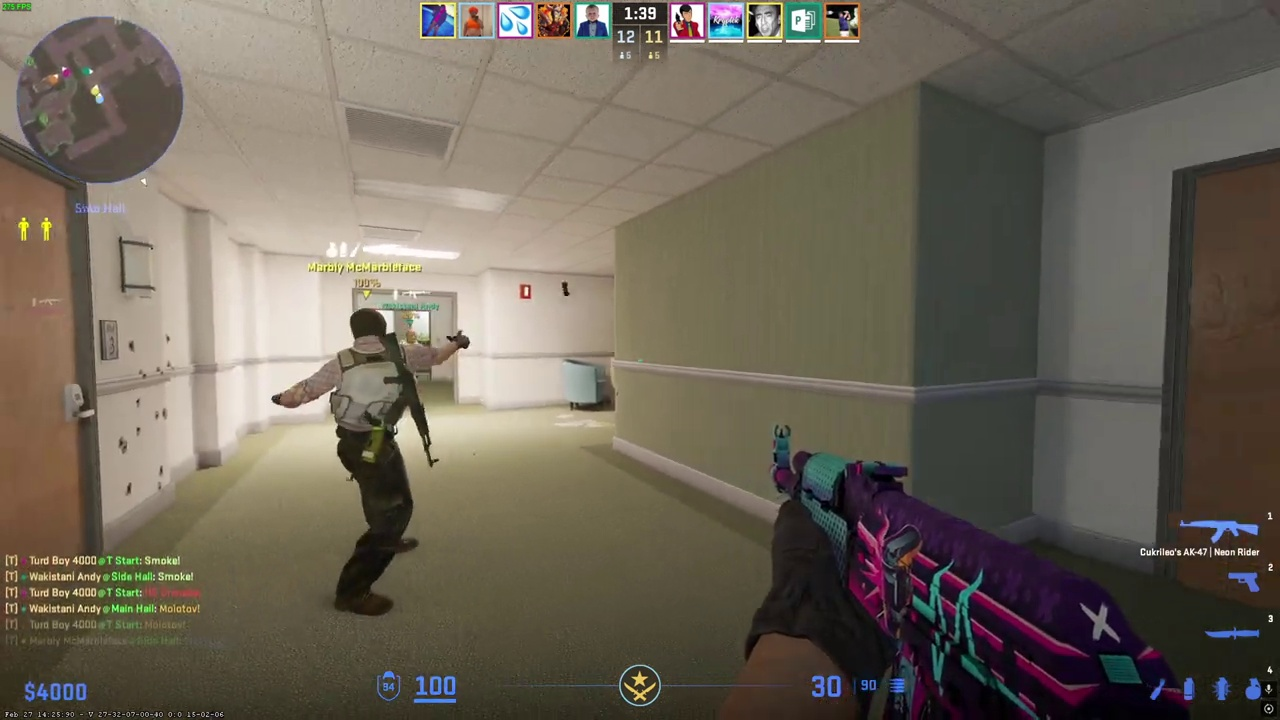Terrorist: (297, 305, 444, 620)
